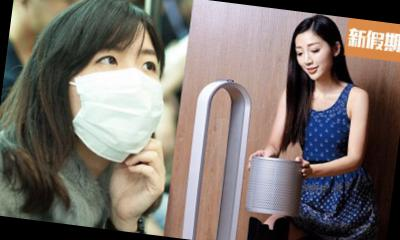with_mask: (61, 37, 173, 169)
without_mask: (289, 36, 337, 85)
